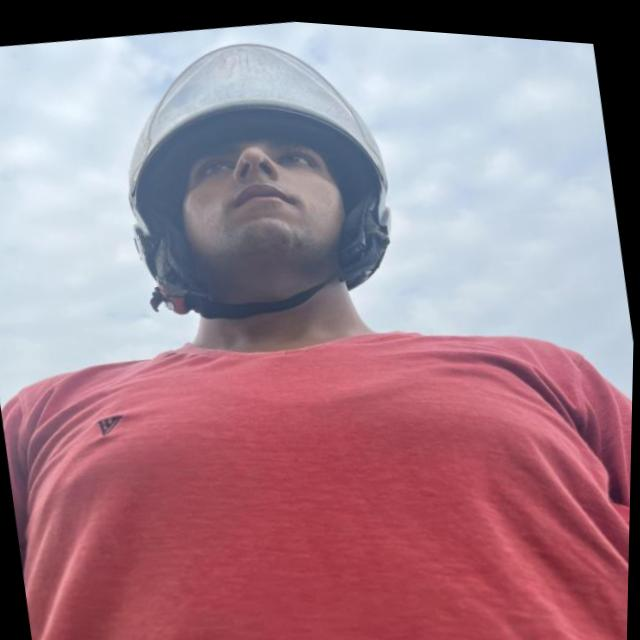WITH_HELMET: (82, 5, 433, 347)
